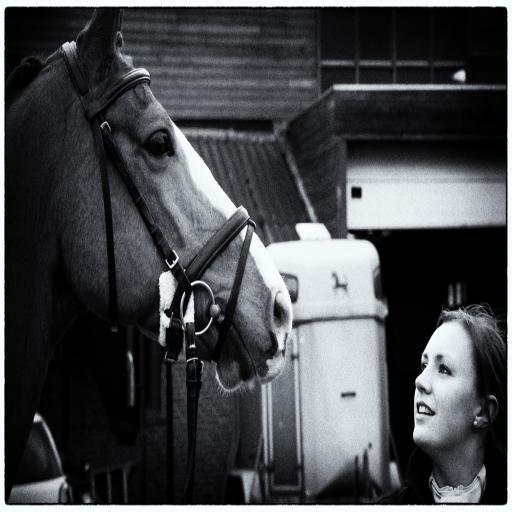horse: (6, 6, 294, 504)
